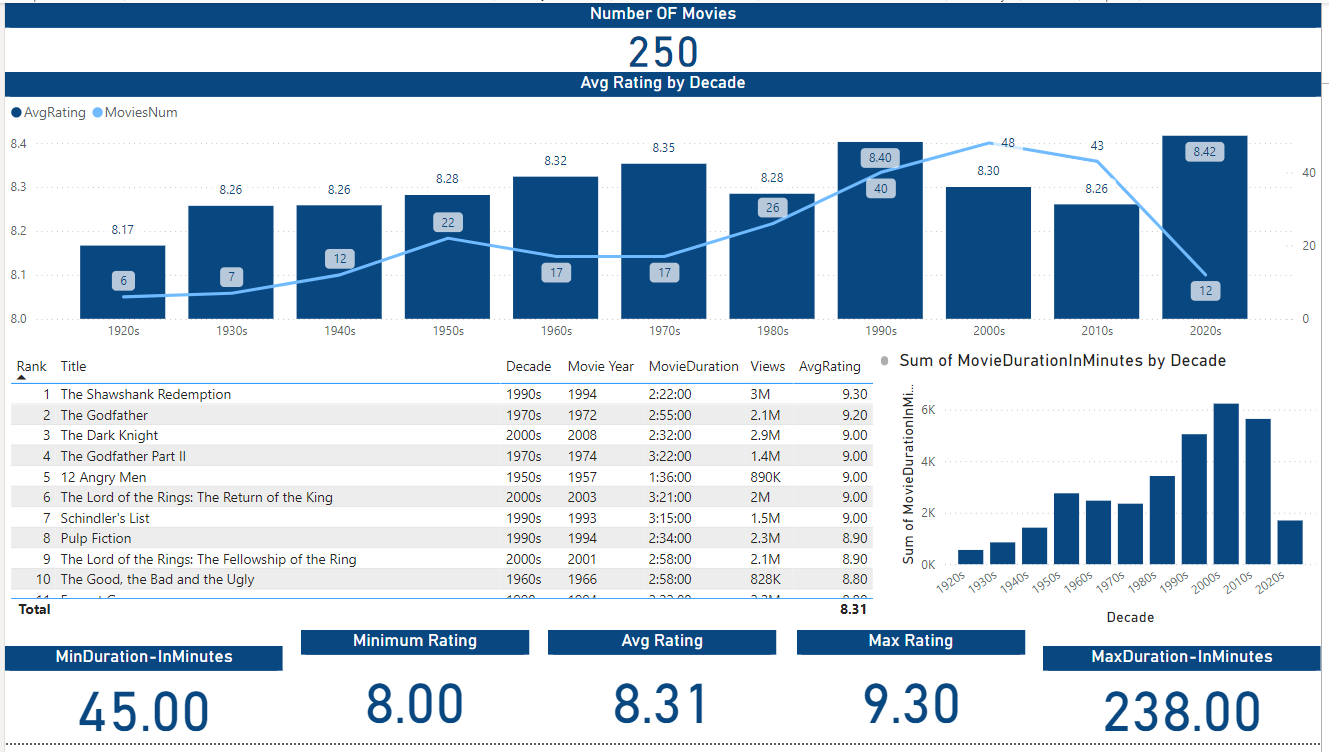

The page's visual inventory and layout, read from the dashboard file:
{"tool":"powerbi","page":{"name":"TOP250 Movies","canvas":[1280,720],"ordinal":0},"visuals":[{"type":"card","title":"Number OF Movies ","fields":{"Values":["TOP 250 Movies.MoviesNum"]},"box":[0,0,1280,67.1],"z":0},{"type":"card","title":"Avg Rating","fields":{"Values":["TOP 250 Movies.AvgRating"]},"box":[528.1,609.8,222,109.9],"z":0,"group":"g1"},{"type":"card","title":"MinDuration-InMinutes","fields":{"Values":["TOP 250 Movies.MinDuration-InMinutes"]},"box":[0,625,270.4,95],"z":0,"group":"g2"},{"type":"group","id":"g1","title":"Group 1","box":[287.9,609.8,704.2,109.9],"z":1000},{"type":"card","title":"Max Rating","fields":{"Values":["TOP 250 Movies.MaxRating"]},"box":[770.3,609.8,221.8,109.9],"z":1000,"group":"g1"},{"type":"card","title":"Minimum Rating","fields":{"Values":["TOP 250 Movies.MinRating"]},"box":[287.9,609.8,221.8,109.9],"z":2000,"group":"g1"},{"type":"group","id":"g2","title":"Group 2","box":[0,625,1280,95],"z":2000},{"type":"card","title":"MaxDuration-InMinutes","fields":{"Values":["TOP 250 Movies.MaxDuration-InMinutes"]},"box":[1009.6,625,270.4,95],"z":2000,"group":"g2"},{"type":"lineStackedColumnComboChart","title":"Avg Rating by Decade","fields":{"Category":["TOP 250 Movies.Decade","TOP 250 Movies.Movie Year"],"Y":["TOP 250 Movies.AvgRating"],"Y2":["TOP 250 Movies.MoviesNum"]},"box":[0,67.1,1280,270.4],"z":3000},{"type":"tableEx","fields":{"Values":["TOP 250 Movies.Rank","TOP 250 Movies.Title","TOP 250 Movies.Decade","TOP 250 Movies.Movie Year","TOP 250 Movies.MovieDurationTime","TOP 250 Movies.Views","TOP 250 Movies.AvgRating"]},"box":[0,337.5,864.7,265.5],"z":4000},{"type":"lineStackedColumnComboChart","fields":{"Y":["Sum(TOP 250 Movies.MovieDurationInMinutes)"],"Category":["TOP 250 Movies.Decade","TOP 250 Movies.Movie Year"]},"box":[864.7,337.5,415.3,272.3],"z":5000}]}

Visuals, with their boxes in screenshot pixels (x1, y1, x2, y2), scaled from the page's 1280x720 canvas onto the 1329x752 screenshot:
"Number OF Movies " card: pyautogui.locateOnScreen(0, 0, 1328, 70)
"Avg Rating" card: pyautogui.locateOnScreen(548, 637, 779, 751)
"MinDuration-InMinutes" card: pyautogui.locateOnScreen(0, 653, 281, 751)
"Group 1" group: pyautogui.locateOnScreen(299, 637, 1030, 751)
"Max Rating" card: pyautogui.locateOnScreen(800, 637, 1030, 751)
"Minimum Rating" card: pyautogui.locateOnScreen(299, 637, 529, 751)
"Group 2" group: pyautogui.locateOnScreen(0, 653, 1328, 751)
"MaxDuration-InMinutes" card: pyautogui.locateOnScreen(1048, 653, 1328, 751)
"Avg Rating by Decade" lineStackedColumnComboChart: pyautogui.locateOnScreen(0, 70, 1328, 352)
tableEx - TOP 250 Movies.Rank x TOP 250 Movies.Title: pyautogui.locateOnScreen(0, 352, 898, 630)
lineStackedColumnComboChart - Sum(TOP 250 Movies.MovieDurationInMinutes) x TOP 250 Movies.Decade: pyautogui.locateOnScreen(898, 352, 1328, 637)
